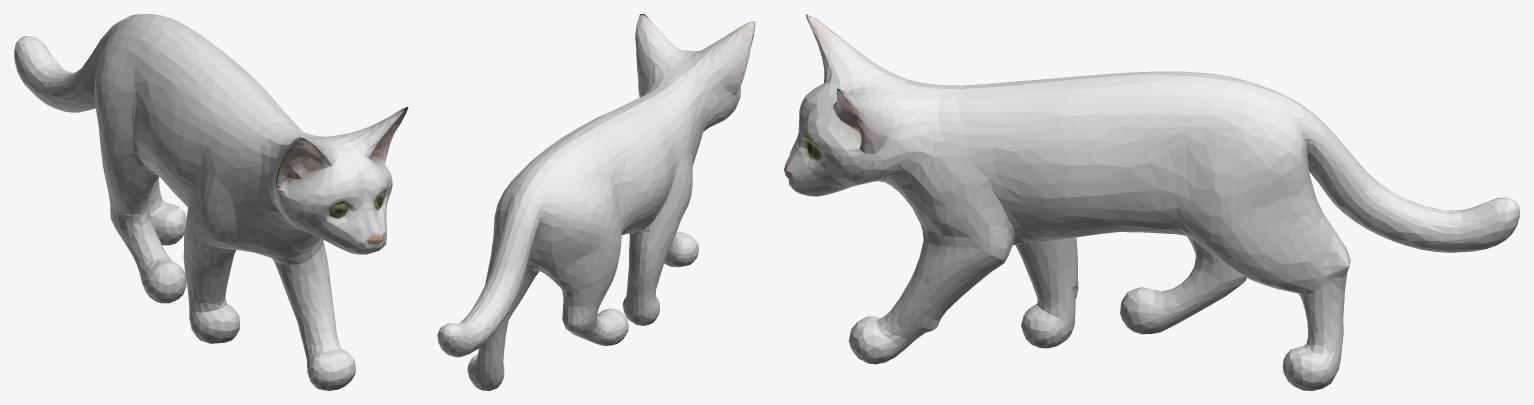
Rendered from actor_cat_white.glb.
3 views of the same model, side by side, from view 1: azimuth 30°, elevation 25°; view 2: azimuth 150°, elevation 25°; view 3: azimuth 270°, elevation 25° (orthographic). The views are drawn at different scales.
Parts seen in each view (by area): view 1: geometry_0; view 2: geometry_0; view 3: geometry_0.
Part boxes in pixels (x1,y1,x2,y2): geometry_0: [14, 14, 408, 390]; geometry_0: [437, 14, 755, 390]; geometry_0: [784, 14, 1519, 390].
Bounding box in the file's own units: 0.2344 × 0.4853 × 0.9999.
1 material, 1 textured.
